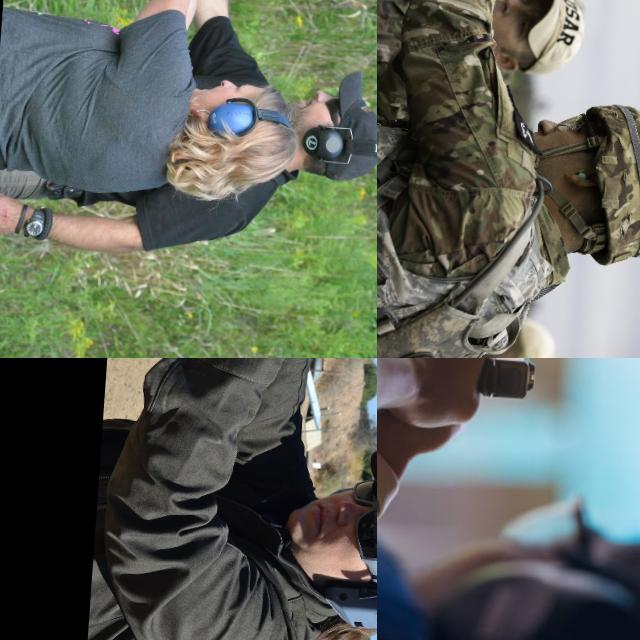handgun: (305, 358, 377, 444), (458, 358, 543, 423), (491, 0, 551, 58), (206, 0, 250, 34)
